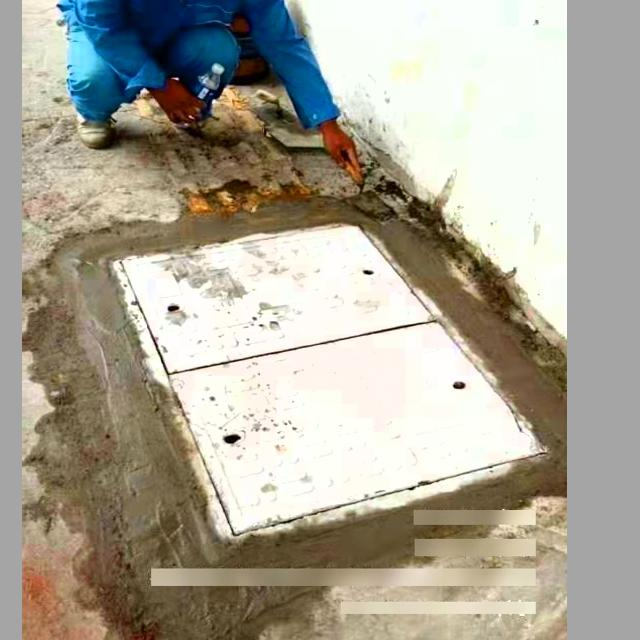good: (116, 219, 557, 537)
